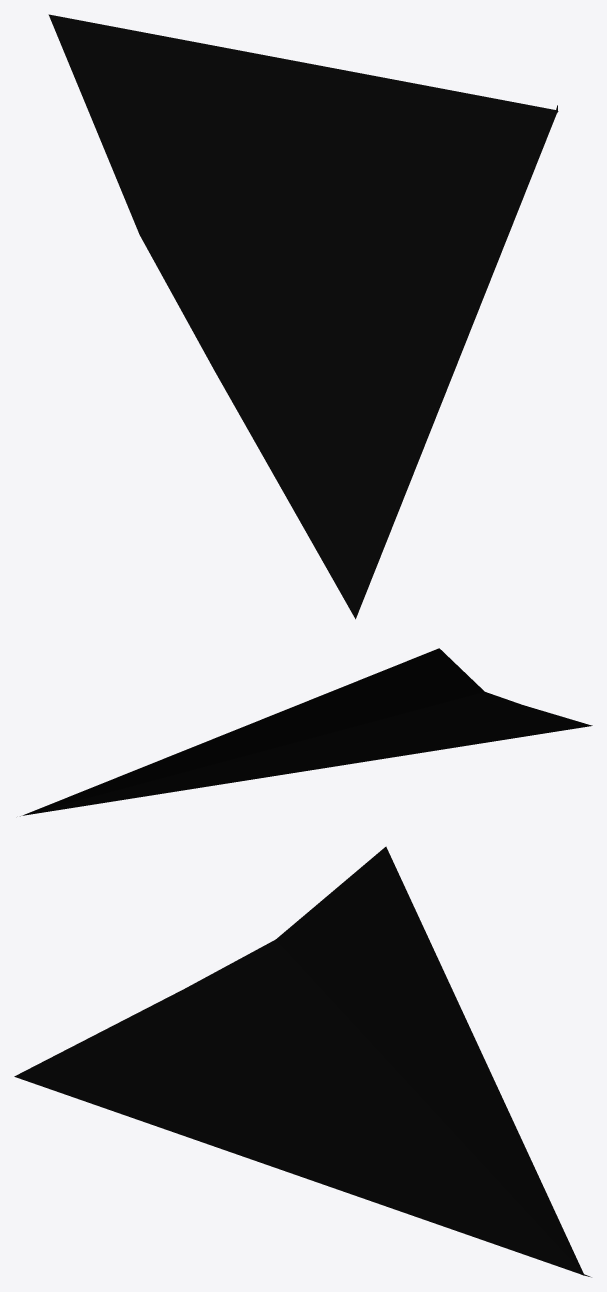
The picture shows the model from 3 angles, top to bottom: view 1: azimuth 30°, elevation 25°; view 2: azimuth 150°, elevation 25°; view 3: azimuth 270°, elevation 25°; orthographic projection. The views are drawn at different scales.
Bounding box in the file's own units: 2.6 × 1.39 × 3.17.
Materials: 1 (1 with a texture image).
